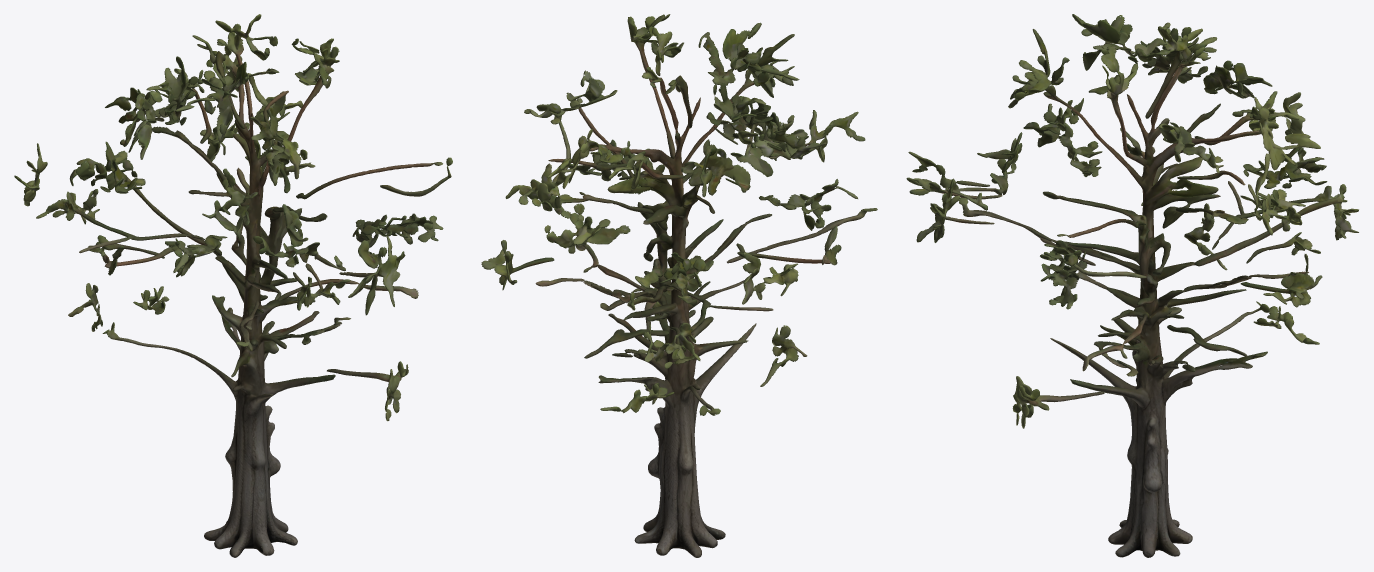
Rendered from nature-tree-elm.glb.
3 views of the same model, side by side, from view 1: azimuth 30°, elevation 25°; view 2: azimuth 150°, elevation 25°; view 3: azimuth 270°, elevation 25° (orthographic).
Parts seen in each view (by area): view 1: tripo_node_0a7d2f20-ba21-4b14-9bb9-c82df3688e35; view 2: tripo_node_0a7d2f20-ba21-4b14-9bb9-c82df3688e35; view 3: tripo_node_0a7d2f20-ba21-4b14-9bb9-c82df3688e35.
Boxes of the visible parts, bbox=[...] form: tripo_node_0a7d2f20-ba21-4b14-9bb9-c82df3688e35: bbox=[14, 14, 452, 557]; tripo_node_0a7d2f20-ba21-4b14-9bb9-c82df3688e35: bbox=[481, 14, 877, 557]; tripo_node_0a7d2f20-ba21-4b14-9bb9-c82df3688e35: bbox=[906, 14, 1358, 557].
Bounding box in the file's own units: 6.83 × 10 × 7.83.
Materials: 1 (1 with a texture image).
